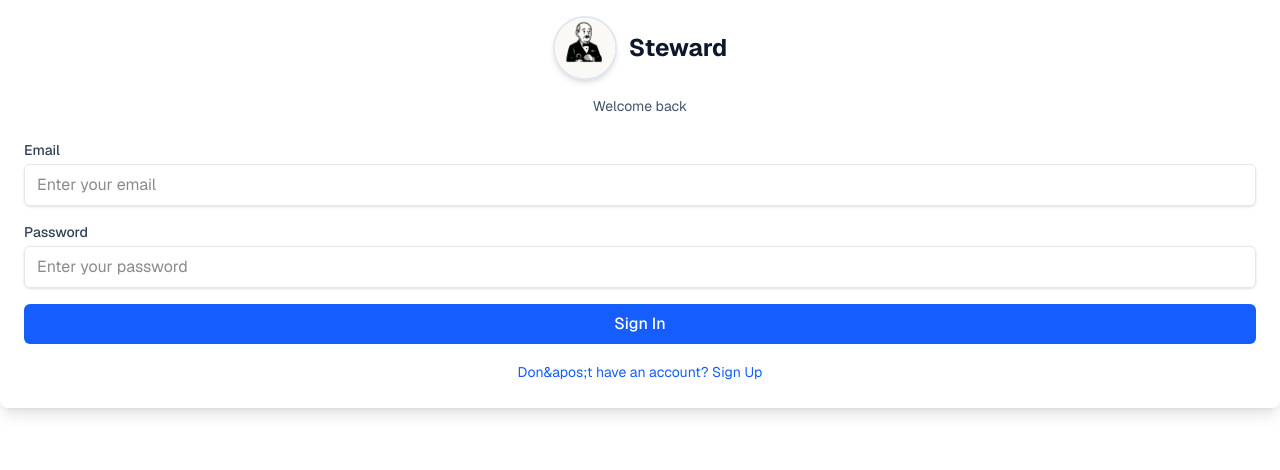
it: LoginForm › Sign Up Flow › should handle sign up error
Note: Switch to sign up mode
Click the button "Don&apos;t have an account? Sign Up". click: [640, 372]
box: [518,362,762,382]
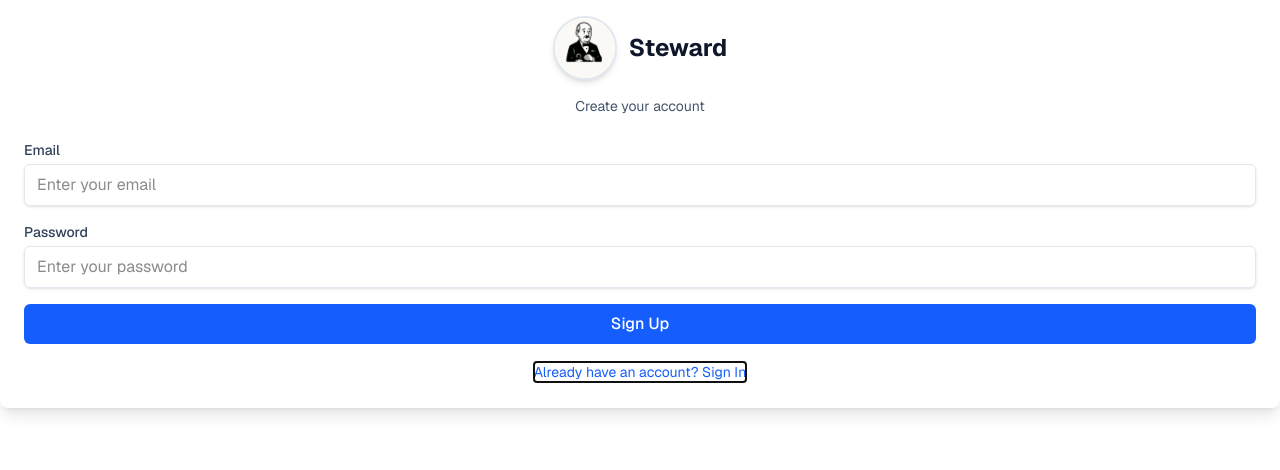
Type "existing@example.com" into the field labelled "Email". click: [640, 185]
box: [24,164,1256,206]
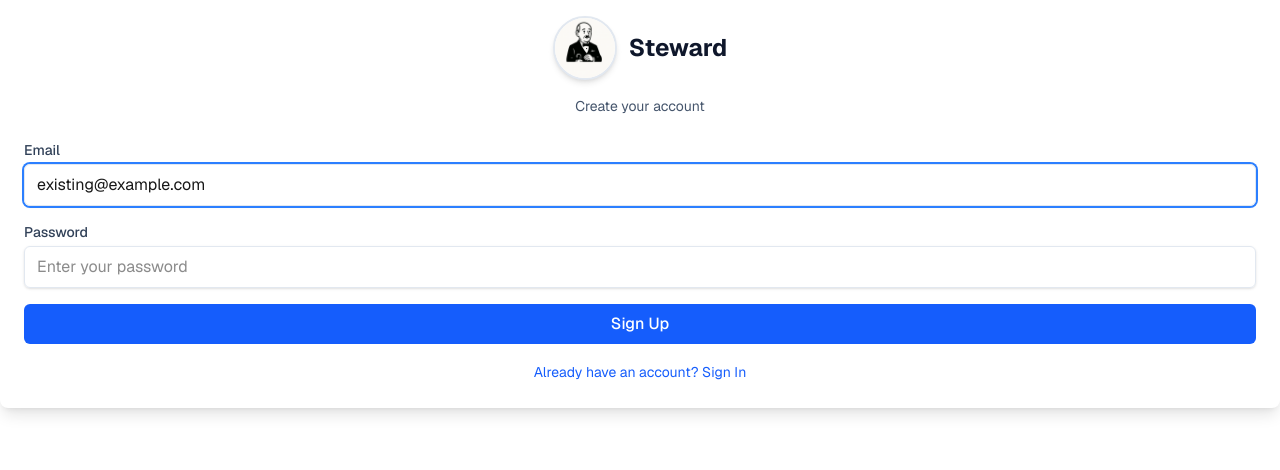
Type "password123" into the password field labelled "Password". click: [640, 267]
box: [24,246,1256,288]
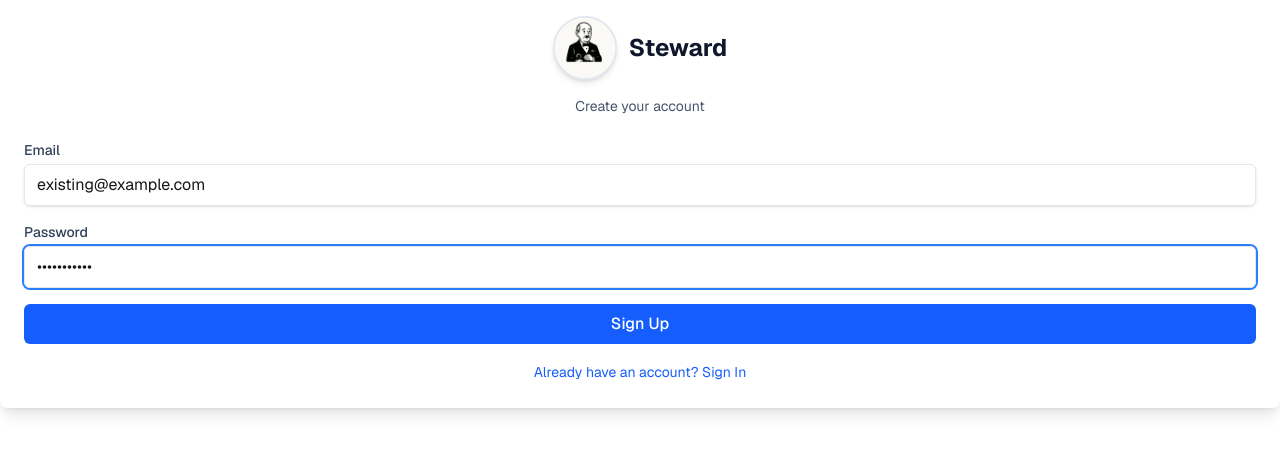
Click the button "Sign Up". click: [640, 324]
box: [24,304,1256,344]
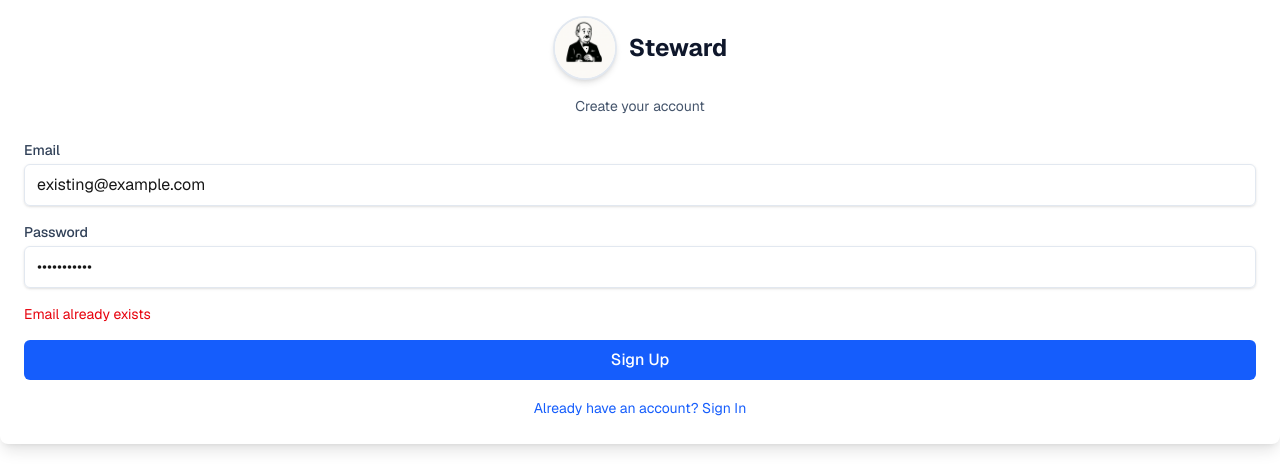
Expected: the text "Email already exists" is shown, [24,305,151,323]
